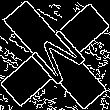M_SE: (21, 21, 89, 89)
